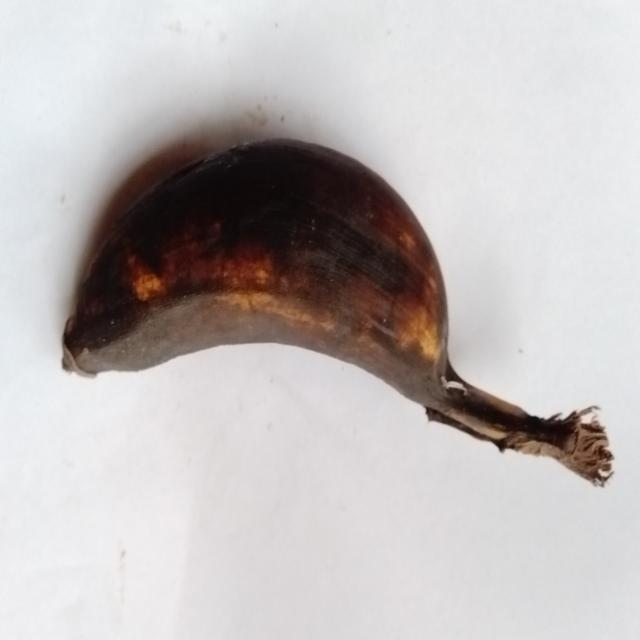banana: (64, 141, 612, 484)
